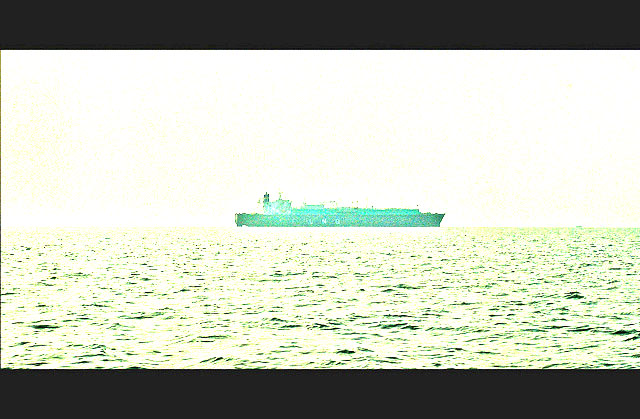LNG_ship: (235, 189, 442, 227)
